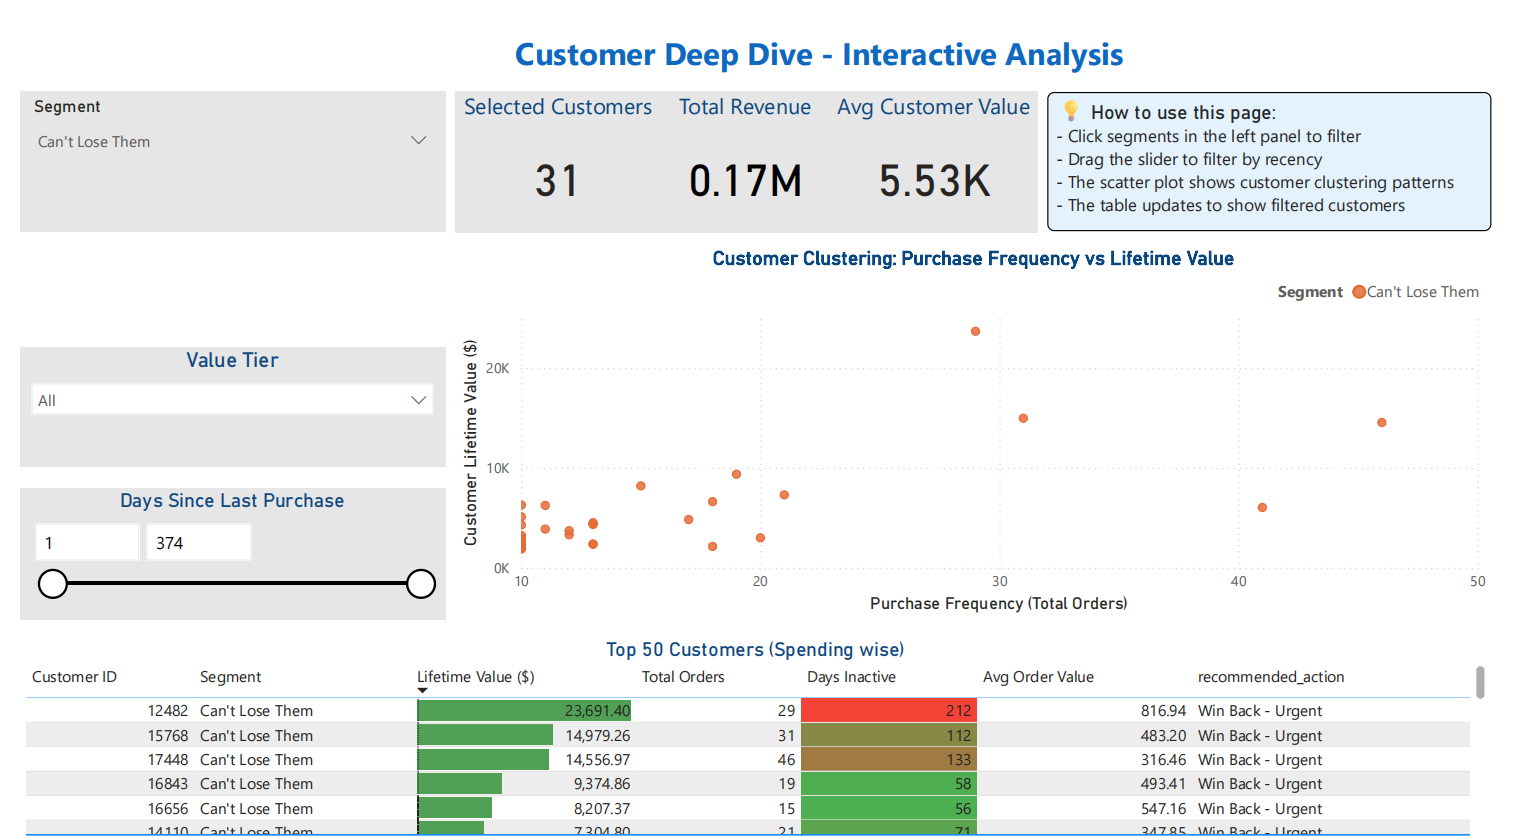

The dashboard page shown, as its layout file describes it:
{"tool":"powerbi","page":{"name":"Customer Deep Dive ","canvas":[1280,720],"ordinal":1},"visuals":[{"type":"textbox","box":[408.3,0,563.3,113.3],"z":0},{"type":"slicer","title":"Value Tier","fields":{"Values":["ecommerce_analytics vw_customer_details.value_tier"]},"box":[0,220,367.8,102.2],"z":1000},{"type":"slicer","title":"Days Since Last Purchase","fields":{"Values":["ecommerce_analytics vw_customer_details.Recency"]},"box":[0,351.1,367.8,112.2],"z":2000},{"type":"card","title":"Selected Customers","fields":{"Values":["CountNonNull(ecommerce_analytics vw_customer_details.CustomerID)"]},"box":[376.2,56.2,176.2,121.2],"z":3000},{"type":"card","title":"Total Revenue","fields":{"Values":["Sum(ecommerce_analytics vw_customer_details.Monetary)"]},"box":[552.5,56.2,146.2,121.2],"z":4000},{"type":"scatterChart","title":"Customer Clustering: Purchase Frequency vs Lifetime Value","fields":{"X":["ecommerce_analytics vw_customer_details.Frequency"],"Y":["ecommerce_analytics vw_customer_details.Monetary"],"Series":["ecommerce_analytics vw_customer_details.Segment"]},"box":[375.7,190,892.9,321.4],"z":5000},{"type":"tableEx","title":"Top 50 Customers (Spending wise)","fields":{"Values":["ecommerce_analytics vw_customer_details.CustomerID","ecommerce_analytics vw_customer_details.Segment","ecommerce_analytics vw_customer_details.Monetary","ecommerce_analytics vw_customer_details.Frequency","ecommerce_analytics vw_customer_details.Recency","ecommerce_analytics vw_customer_details.avg_order_value","ecommerce_analytics vw_customer_details.recommended_action"]},"box":[0,511.1,1268.9,214.4],"z":6000},{"type":"card","title":"Avg Customer Value","fields":{"Values":["Avg(ecommerce_analytics vw_customer_details.Monetary)"]},"box":[698.8,56.2,178.8,121.2],"z":7000},{"type":"textbox","title":"💡 How to use this page:","box":[885.7,57.1,382.9,120],"z":8000},{"type":"slicer","fields":{"Values":["ecommerce_analytics vw_customer_details.Segment"]},"box":[0,56.1,367,121.3],"z":9000}]}

Visuals, with their boxes on the page's 1280x720 design canvas (x1, y1, x2, y2). These are canvas units, not pixel positions in the 1532x836 screenshot, which may show the page scaled, cropped or inside an application window:
textbox: region(408, 0, 972, 113)
"Value Tier" slicer: region(0, 220, 368, 322)
"Days Since Last Purchase" slicer: region(0, 351, 368, 463)
"Selected Customers" card: region(376, 56, 552, 177)
"Total Revenue" card: region(552, 56, 699, 177)
"Customer Clustering: Purchase Frequency vs Lifetime Value" scatterChart: region(376, 190, 1269, 511)
"Top 50 Customers (Spending wise)" tableEx: region(0, 511, 1269, 726)
"Avg Customer Value" card: region(699, 56, 878, 177)
"💡 How to use this page:" textbox: region(886, 57, 1269, 177)
slicer - ecommerce_analytics vw_customer_details.Segment: region(0, 56, 367, 177)
